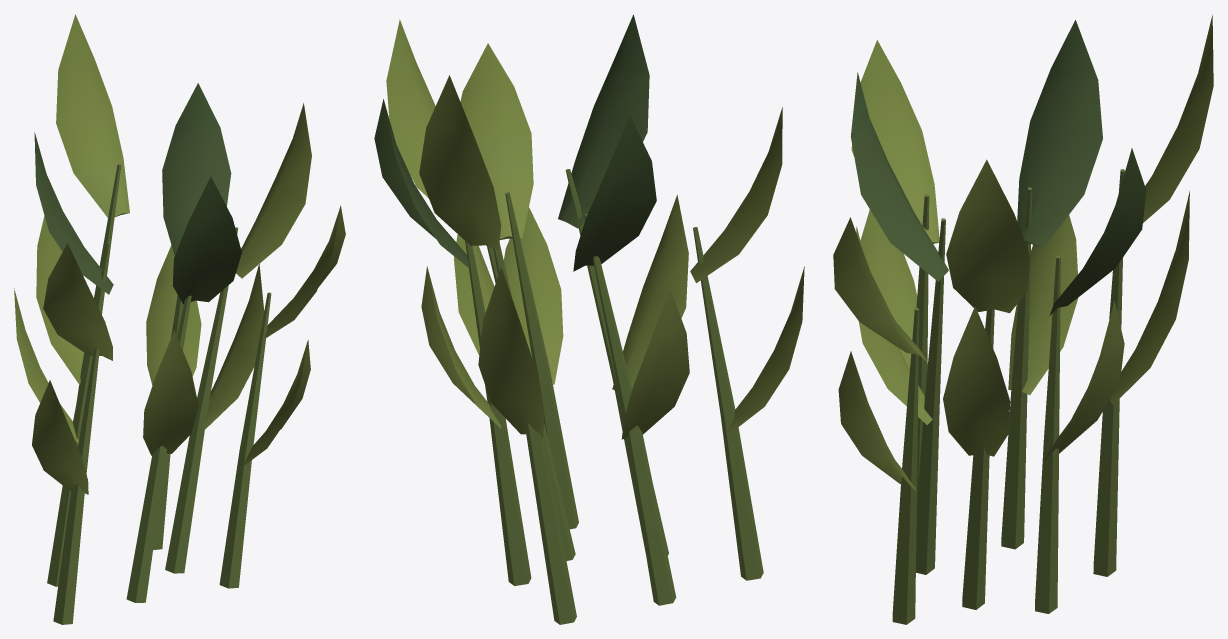
File: foliage_kelp_a.glb
The picture shows the model from 3 angles, left to right: view 1: azimuth 30°, elevation 25°; view 2: azimuth 150°, elevation 25°; view 3: azimuth 270°, elevation 25°; orthographic projection. The views are drawn at different scales.
Parts seen in each view (by area): view 1: kelp_blade_lower_00, kelp_stalk_00, kelp_blade_upper_01; view 2: kelp_blade_lower_00, kelp_stalk_00, kelp_blade_upper_01; view 3: kelp_blade_lower_00, kelp_stalk_00, kelp_blade_upper_01.
Part boxes in pixels (box(x1,y1,x2,y2)): kelp_blade_lower_00: box(14, 14, 345, 494); kelp_stalk_00: box(47, 164, 271, 624); kelp_blade_upper_01: box(34, 83, 241, 304); kelp_blade_lower_00: box(386, 19, 804, 439); kelp_stalk_00: box(465, 169, 763, 624); kelp_blade_upper_01: box(374, 14, 656, 271); kelp_blade_lower_00: box(833, 15, 1213, 491); kelp_stalk_00: box(892, 169, 1124, 624); kelp_blade_upper_01: box(850, 20, 1146, 315).
Bounding box in the file's own units: 1.2 × 1.82 × 1.06.
